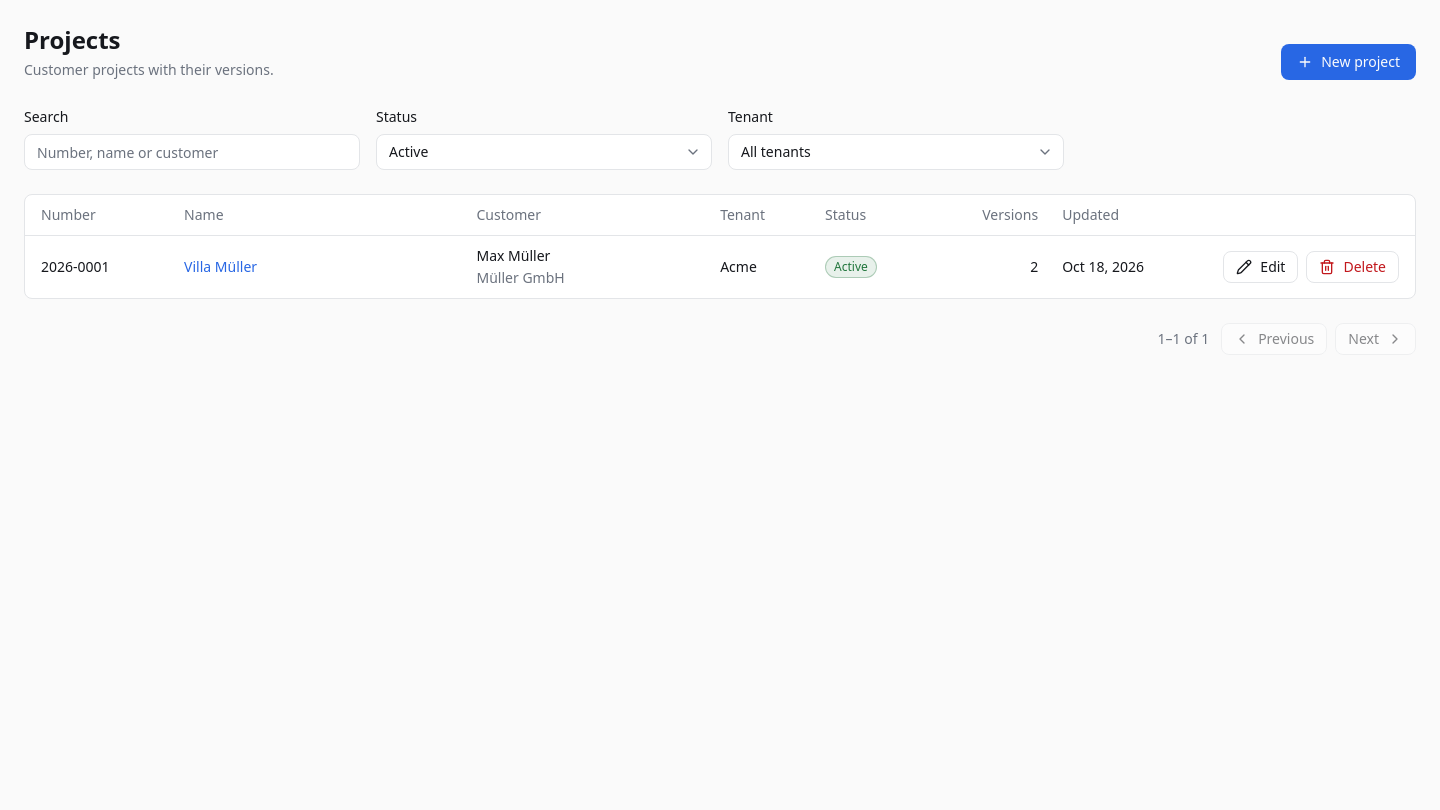
Test: ProjectsPage › edits a project loaded fresh, with its status, and shows field errors of the API
Click the button "Edit".
click(1261, 267)  # box x1=1223 y1=251 x2=1298 y2=283
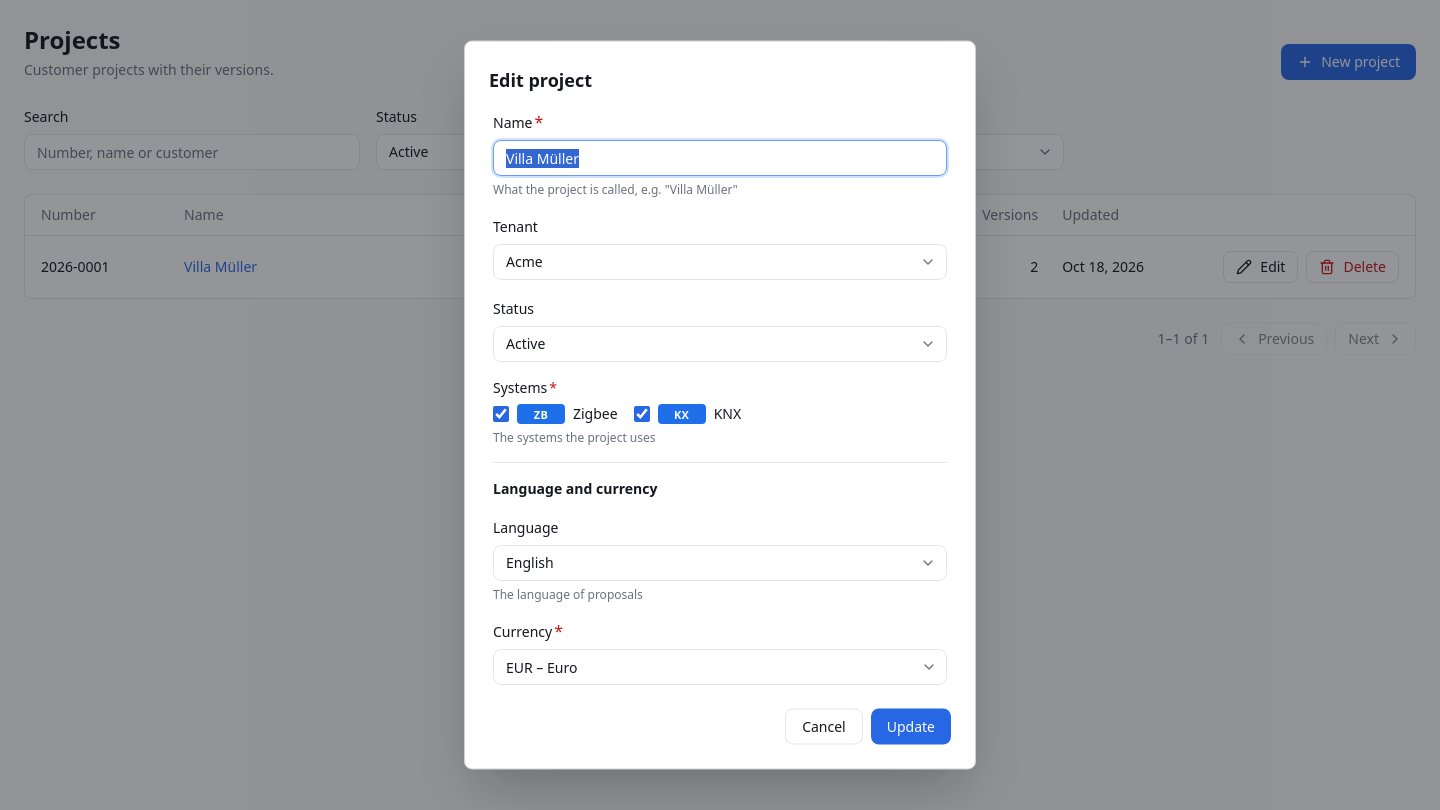
Click the dropdown named "Status".
click(526, 343)  # box x1=493 y1=326 x2=947 y2=362
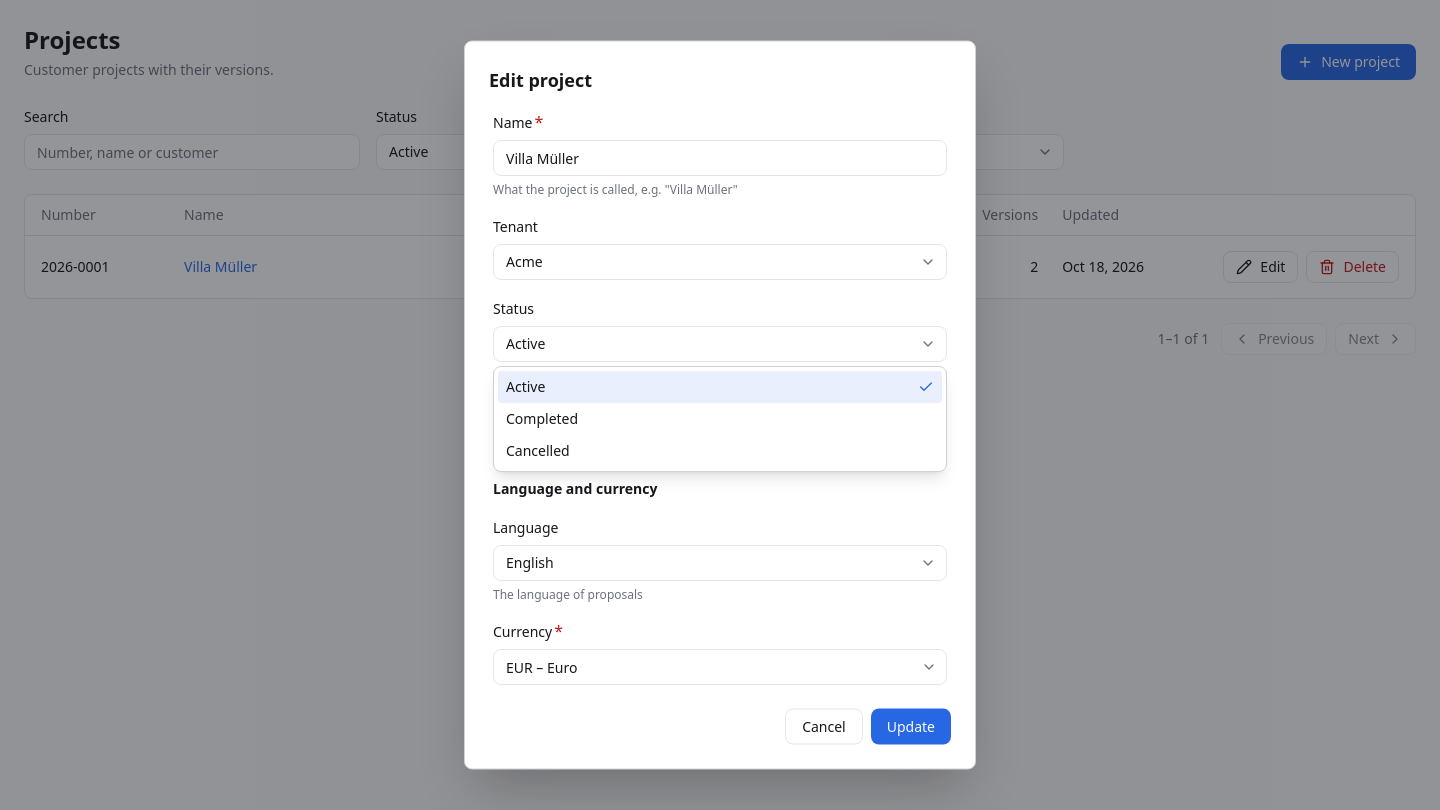
Click the option "Completed".
click(542, 418)  # box x1=506 y1=409 x2=578 y2=428
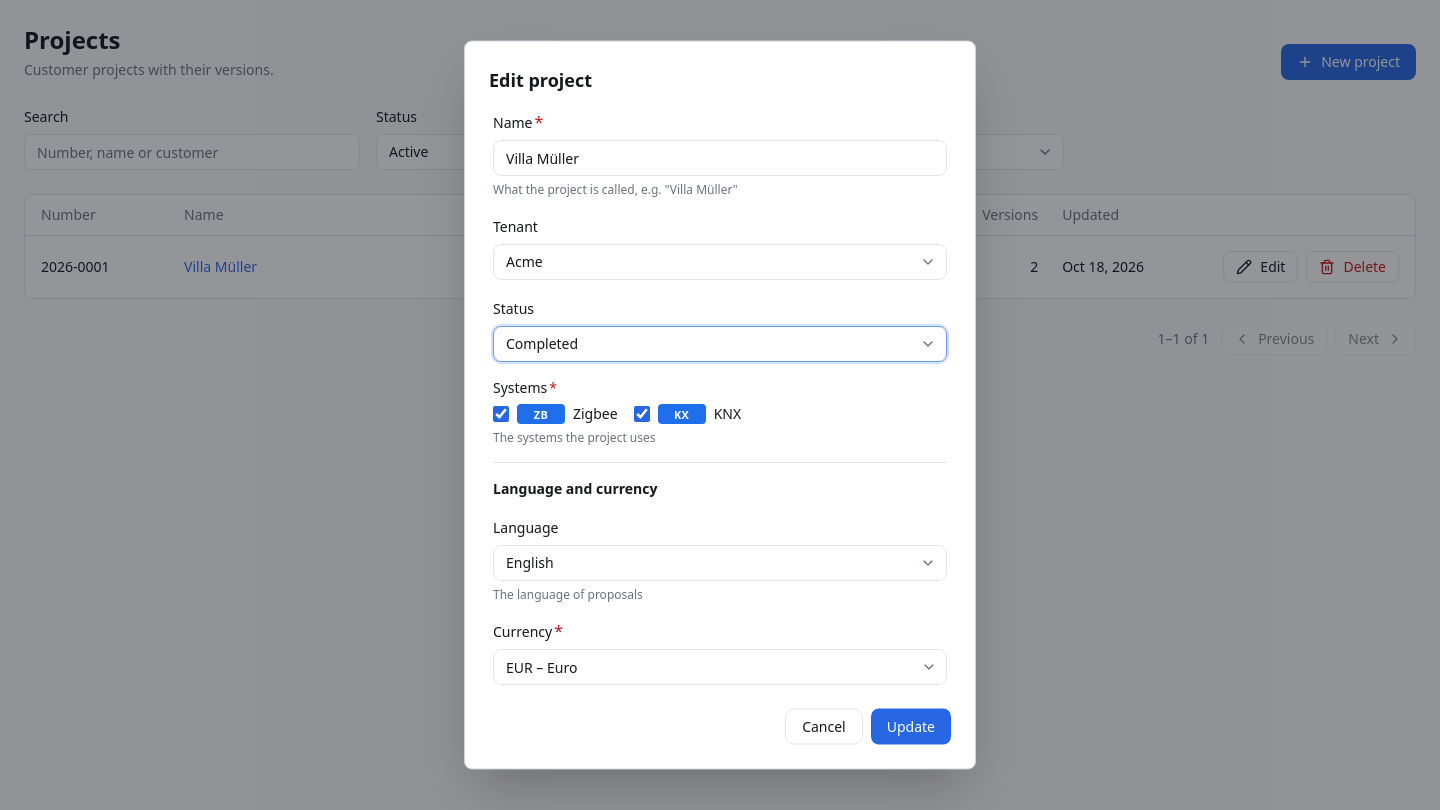
Click the button "Update".
click(911, 726)  # box x1=871 y1=708 x2=951 y2=744
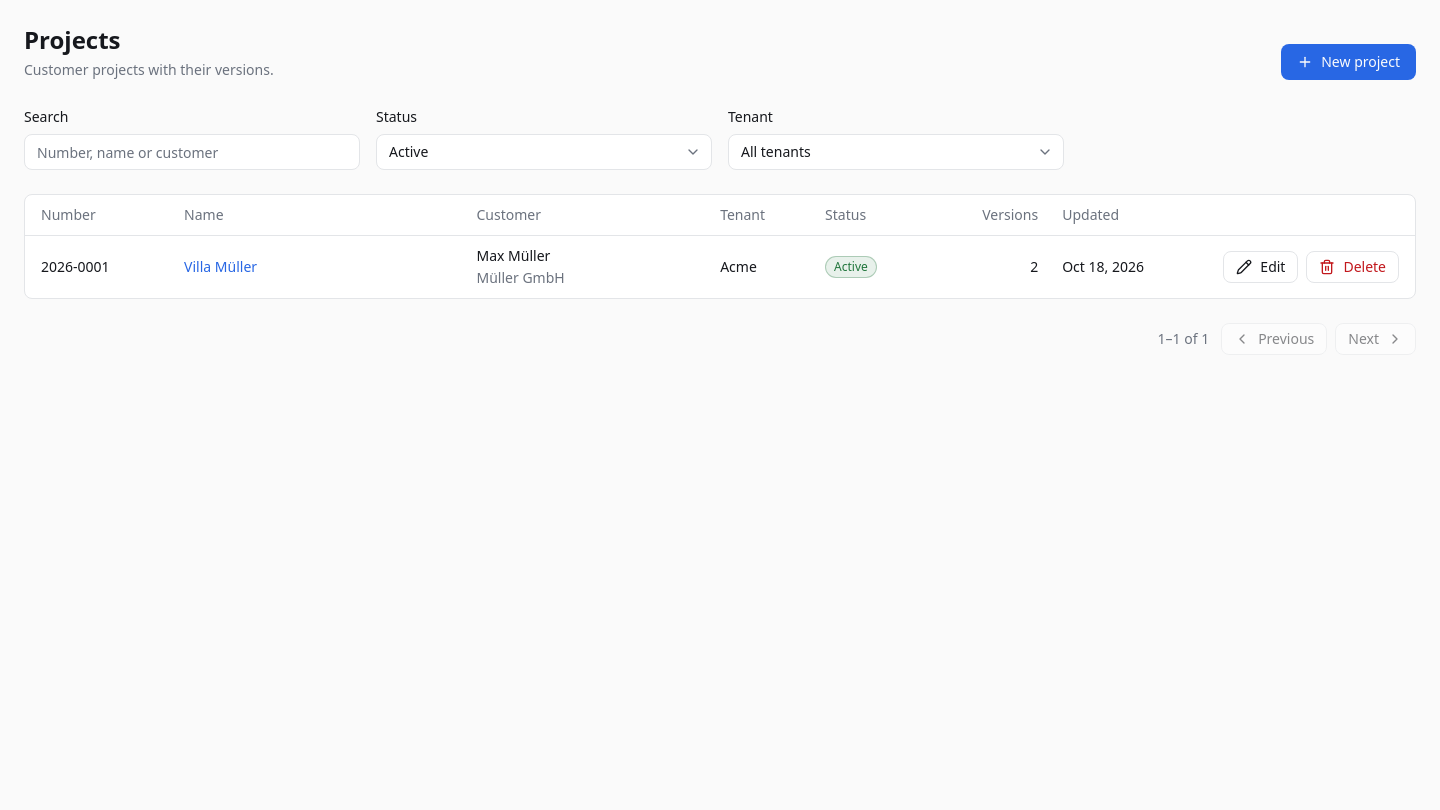
Result: the dialog is gone
